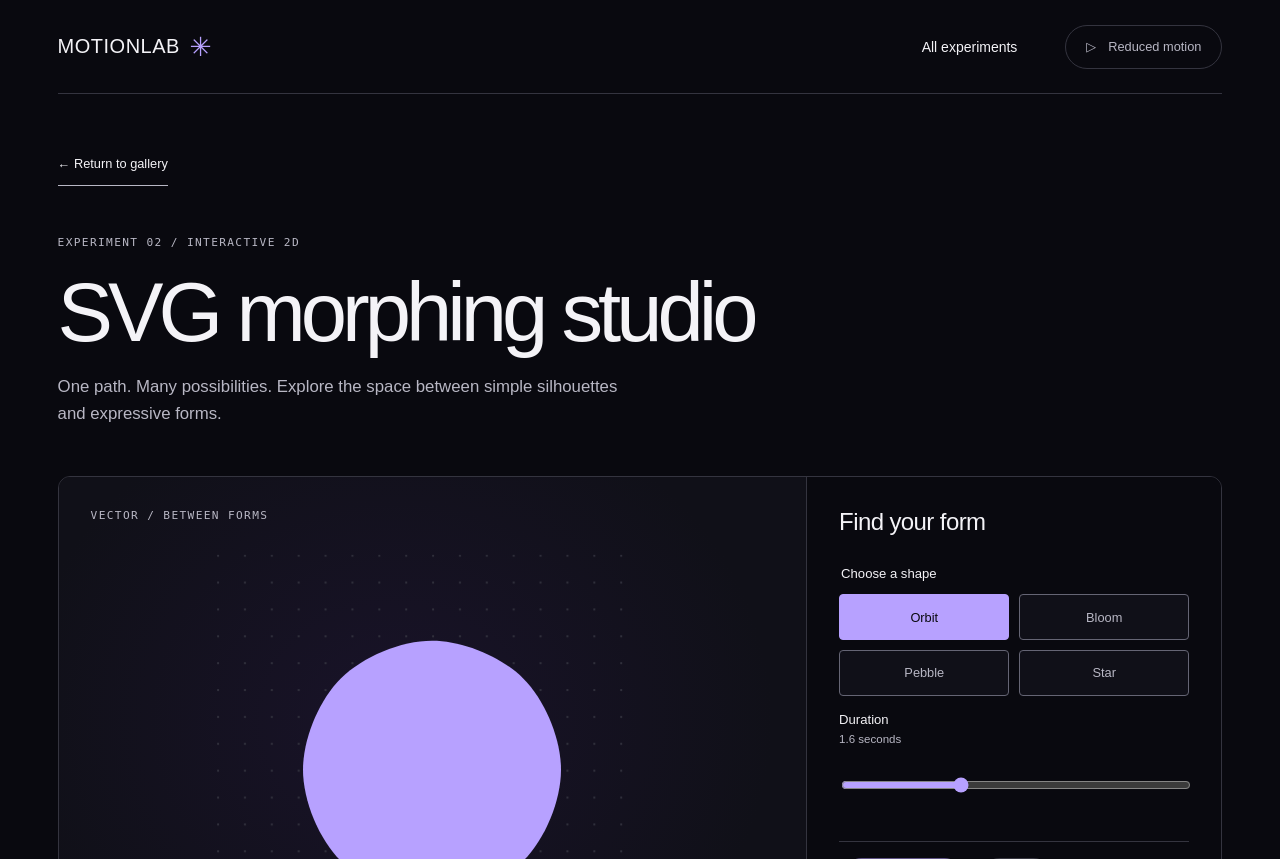
Morphing studio › resets shape and duration without disabling selection
Click the button "Star": (1104, 673) [1019,650,1189,696]
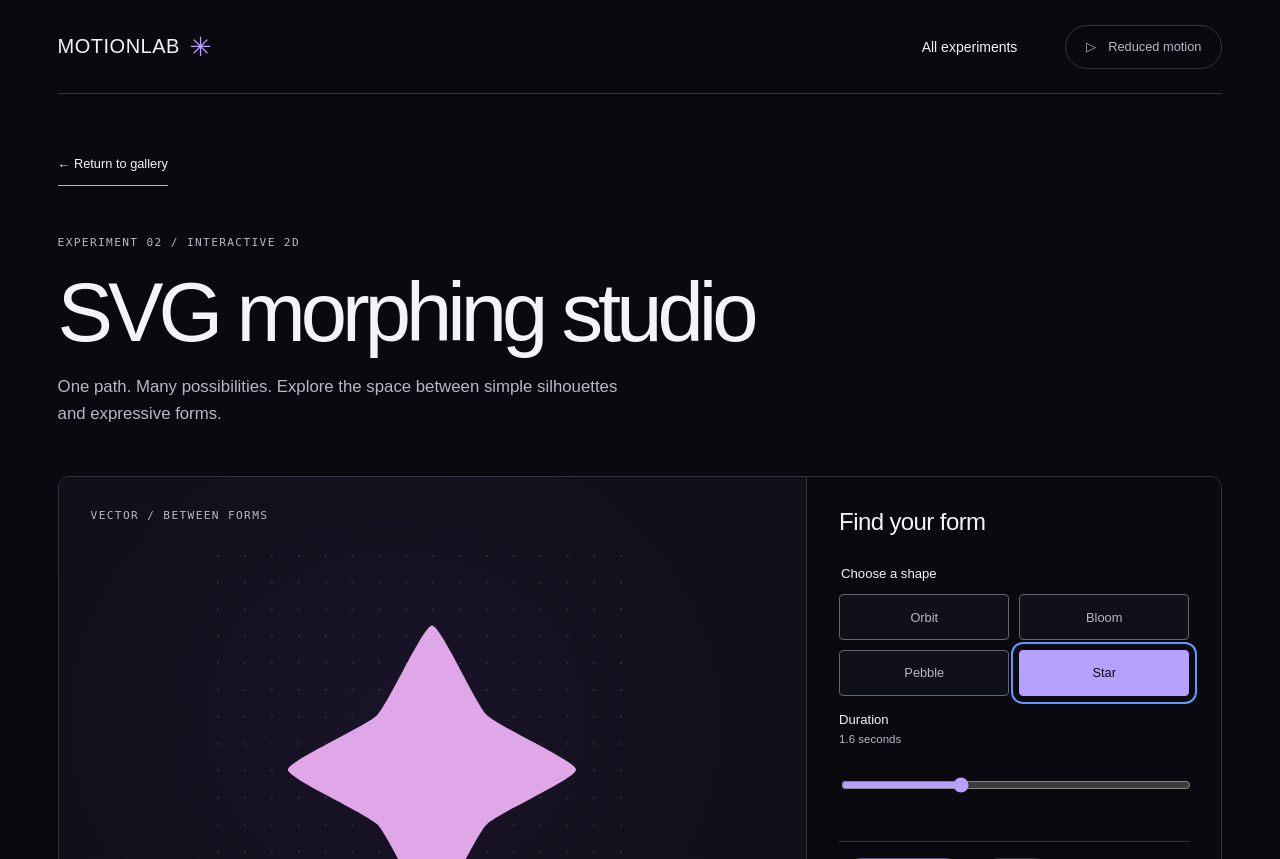
Set the slider labelled "Duration 1.6 seconds" to "3": (1091, 785) [841,763,1191,807]
(page scrolled)
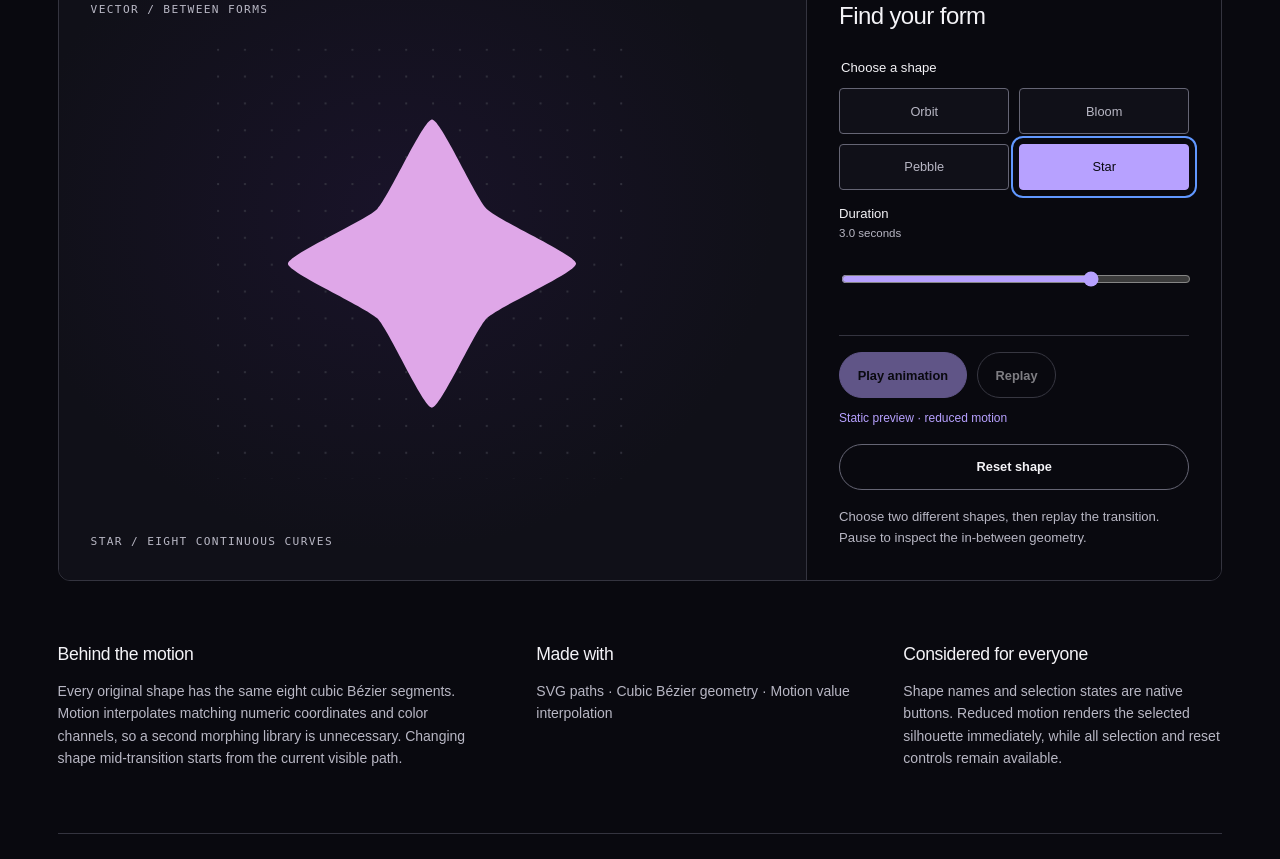
Click the button "Reset shape": (1014, 467) [839,444,1189,490]
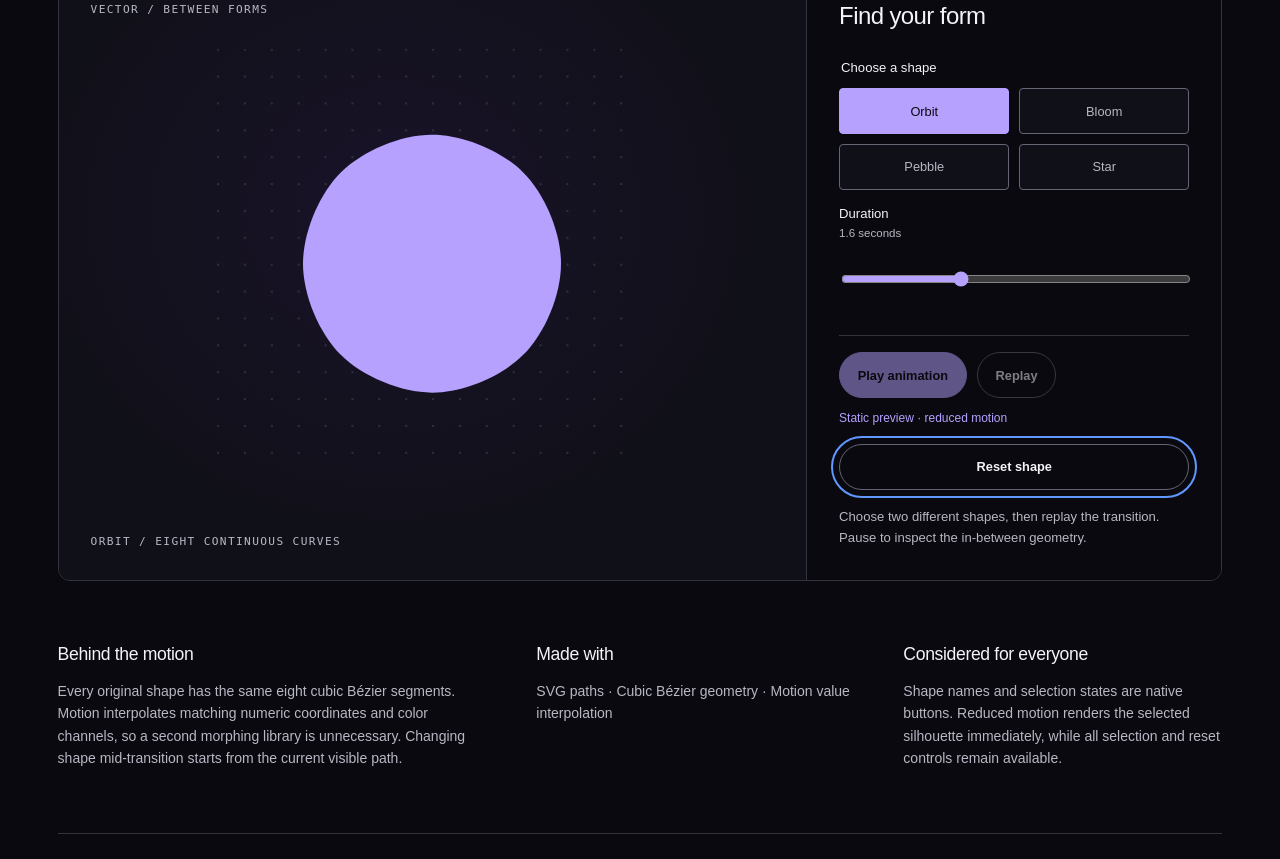
Now the slider labelled "Duration 1.6 seconds" holds "1.6", box [841,257,1191,301]
